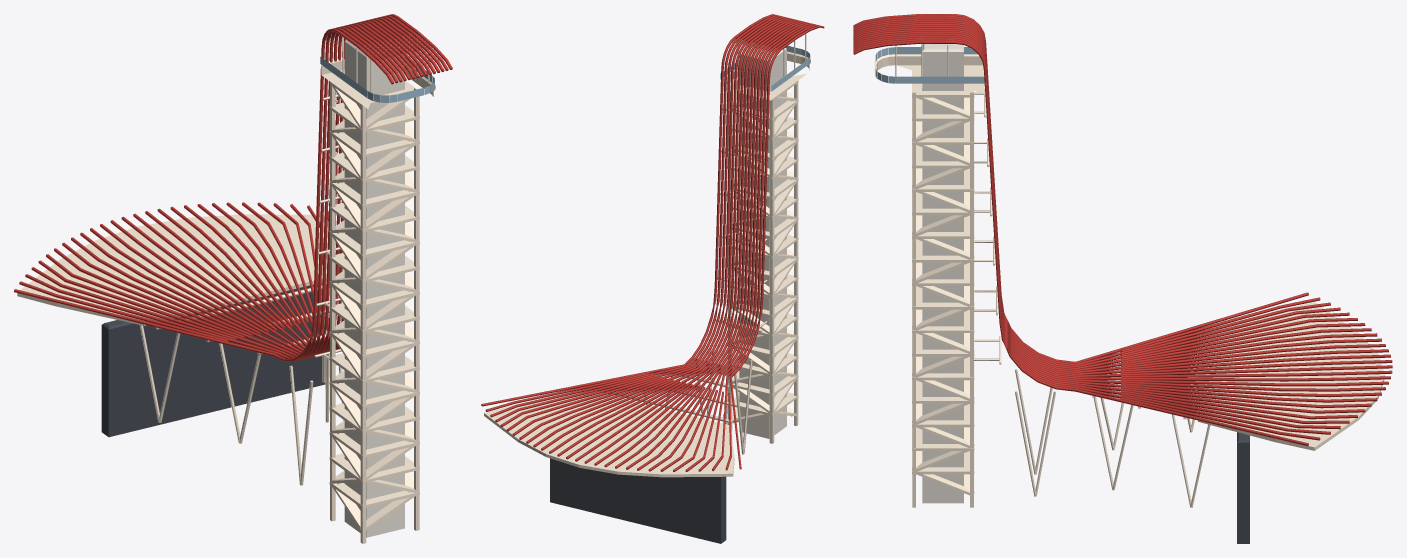
The model's file is atx-cota-observation-tower.glb.
The picture shows the model from 3 angles, left to right: view 1: azimuth 30°, elevation 25°; view 2: azimuth 150°, elevation 25°; view 3: azimuth 270°, elevation 25°; orthographic projection. The views are drawn at different scales.
Visible parts, largest first — view 1: Circuit of the Americas Observation Tower; view 2: Circuit of the Americas Observation Tower; view 3: Circuit of the Americas Observation Tower.
Boxes of the visible parts, x1,y1,x2,y2 form: Circuit of the Americas Observation Tower: [14, 14, 452, 543]; Circuit of the Americas Observation Tower: [481, 14, 824, 543]; Circuit of the Americas Observation Tower: [853, 14, 1392, 543].
Bounding box in the file's own units: 55.3 × 79.28 × 83.09.
